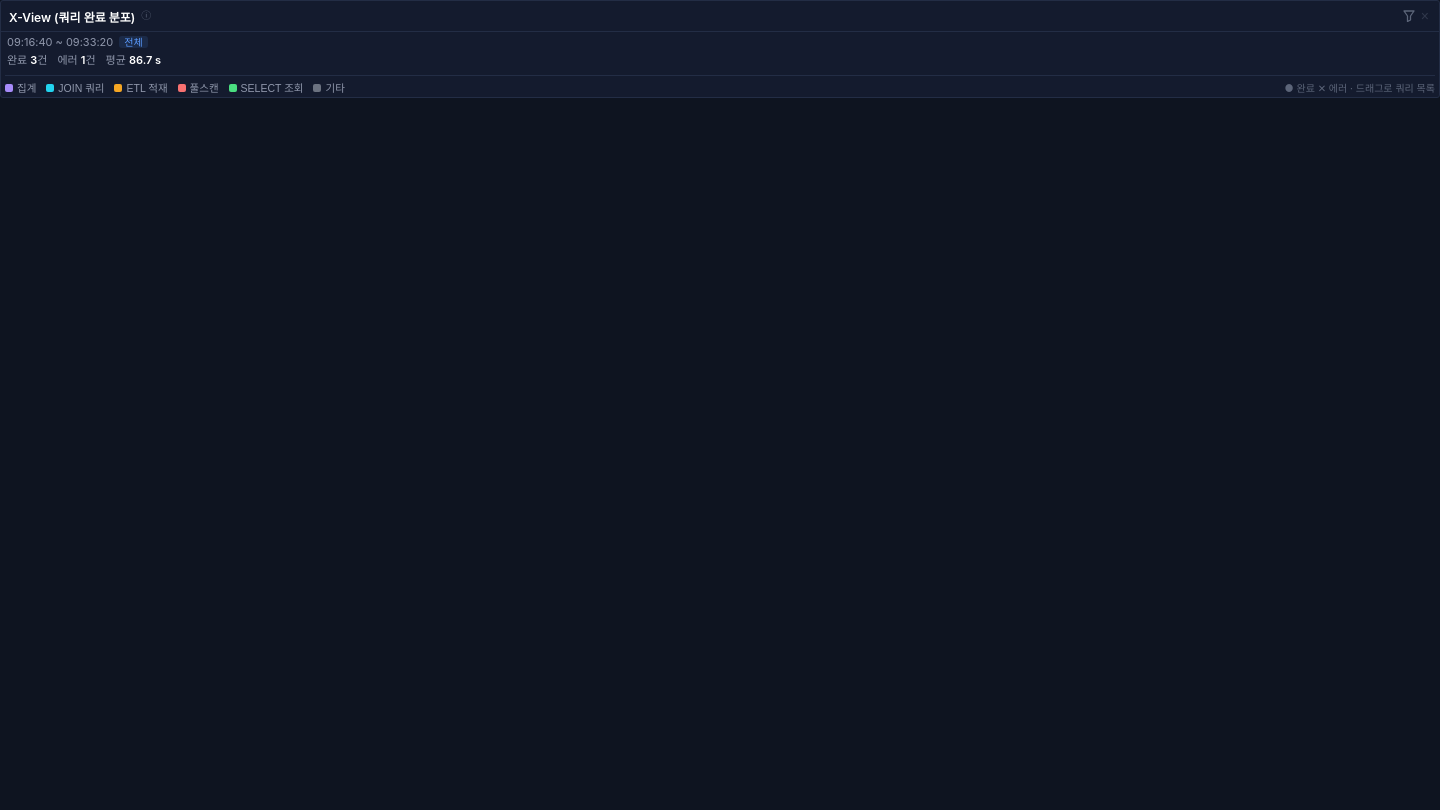
Test: XViewPanel — 요약행은 표시 이벤트 집합에서 계산 (XR-04) › 표시 필터(X4): 전부 끄면 '필터로 모두 숨겨졌습니다' 안내 — 차트는 내려간다(dispose)
Click the button named "표시 필터": (1409, 16) [1399, 6, 1419, 26]
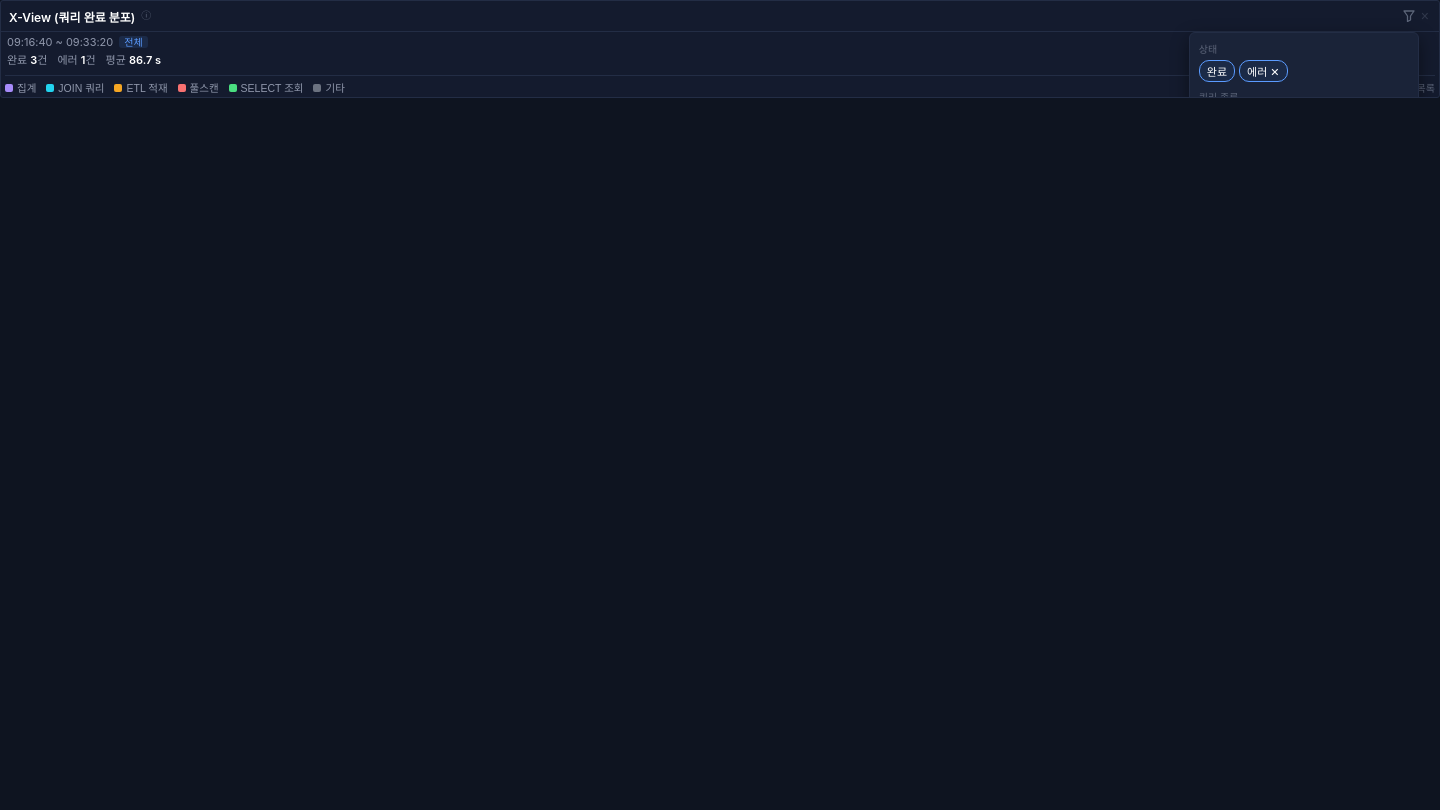
Click the button "완료": (1217, 71) [1199, 60, 1235, 82]
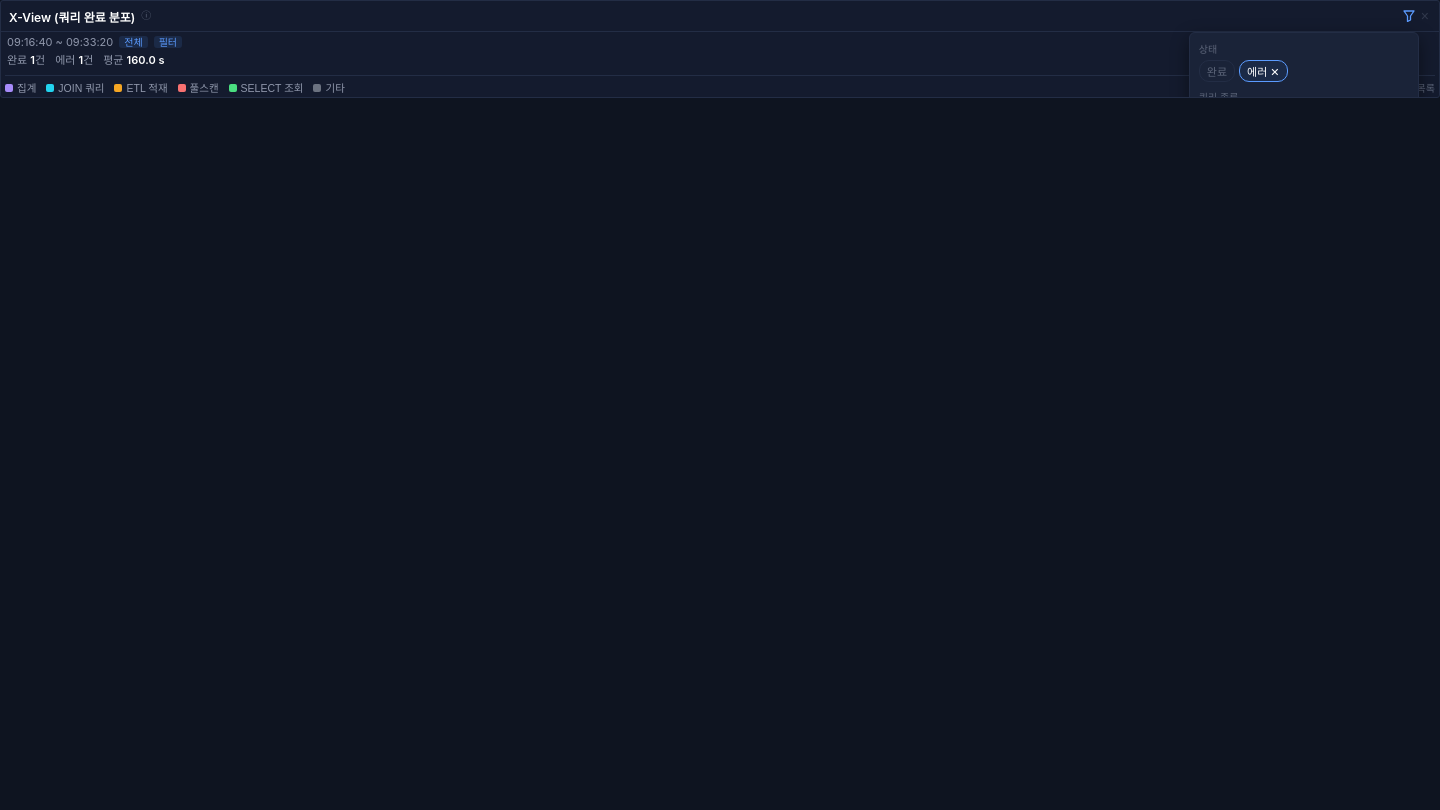
Click the button "에러 ✕": (1263, 71) [1239, 60, 1288, 82]
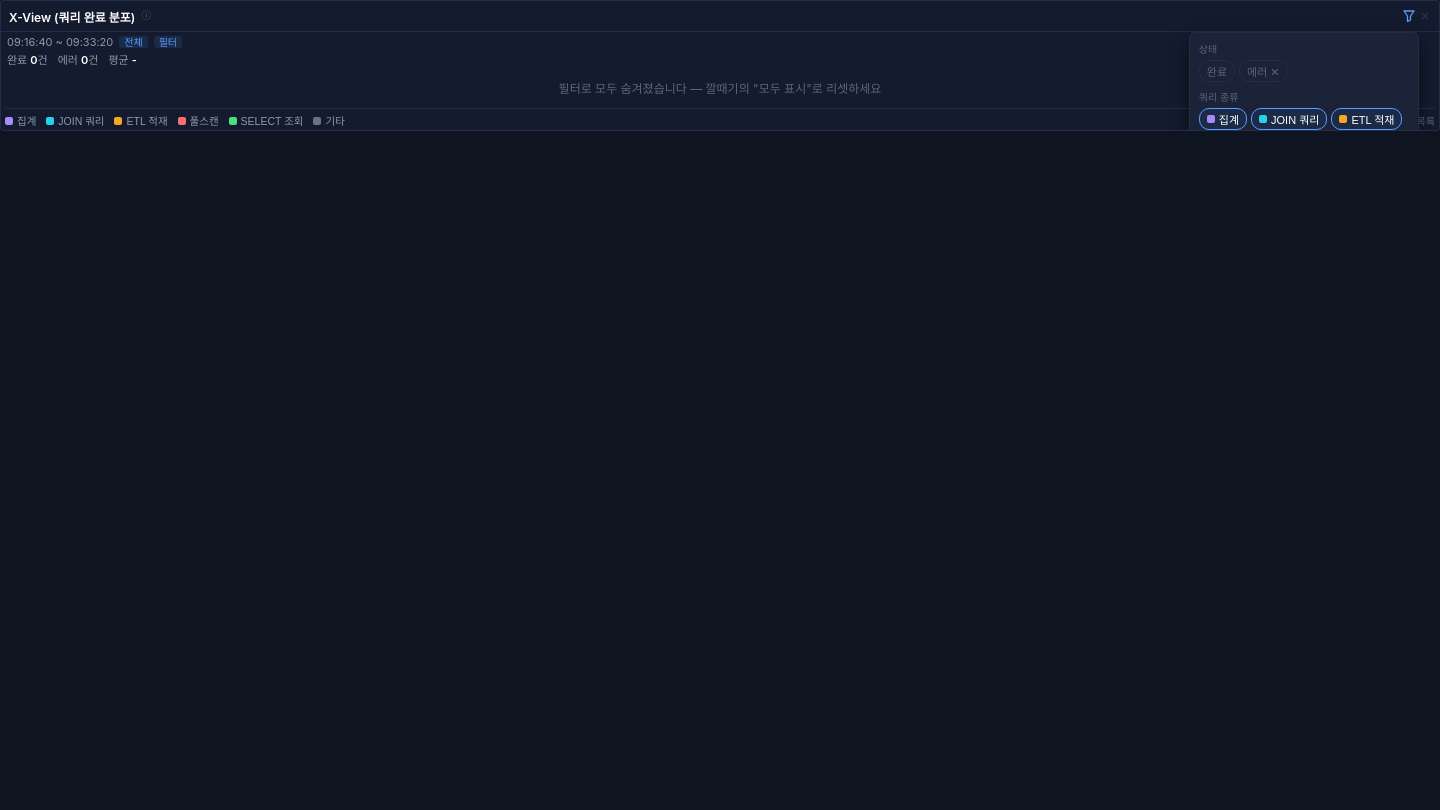
Check: the text "필터로 모두 숨겨졌습니다 — 깔때기의 \"모두 표시\"로 리셋하세요" is shown, box [559, 81, 881, 96]
